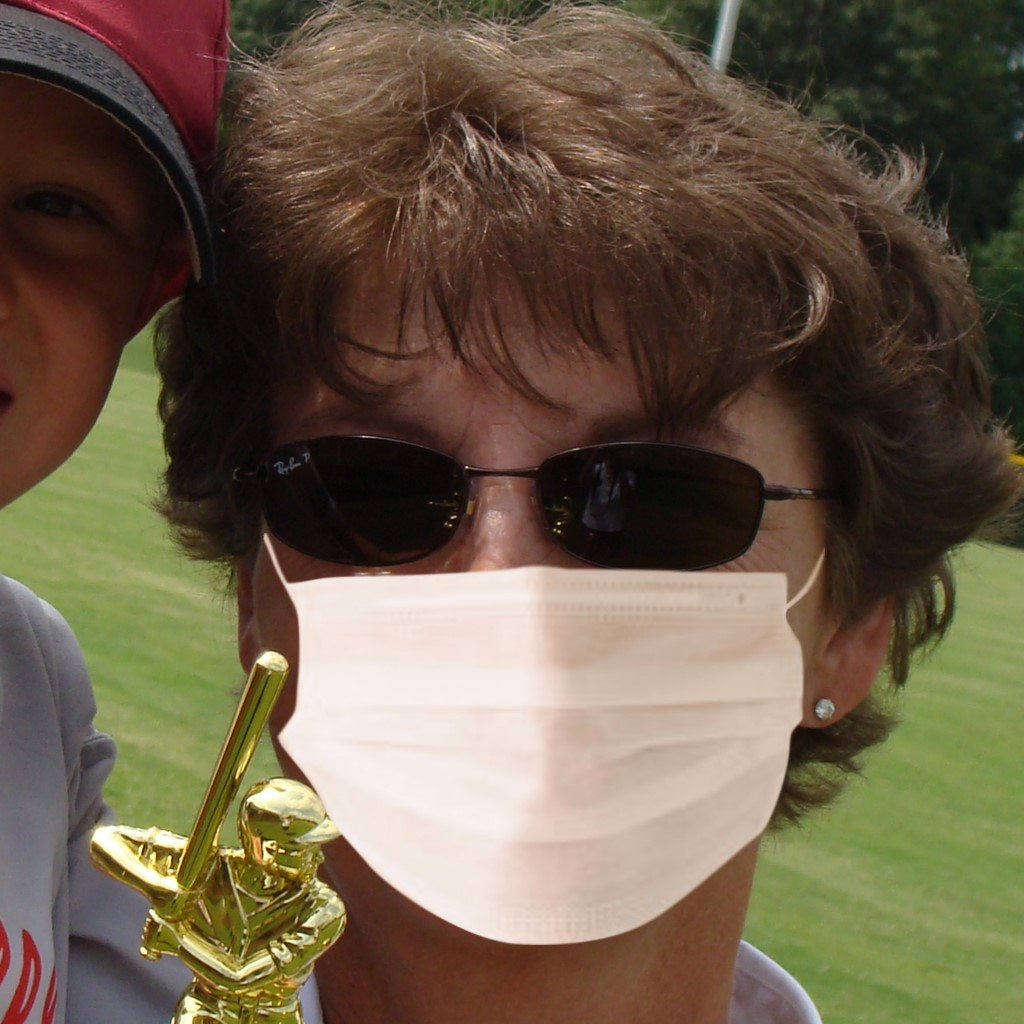con_mascara: (210, 70, 912, 952)
